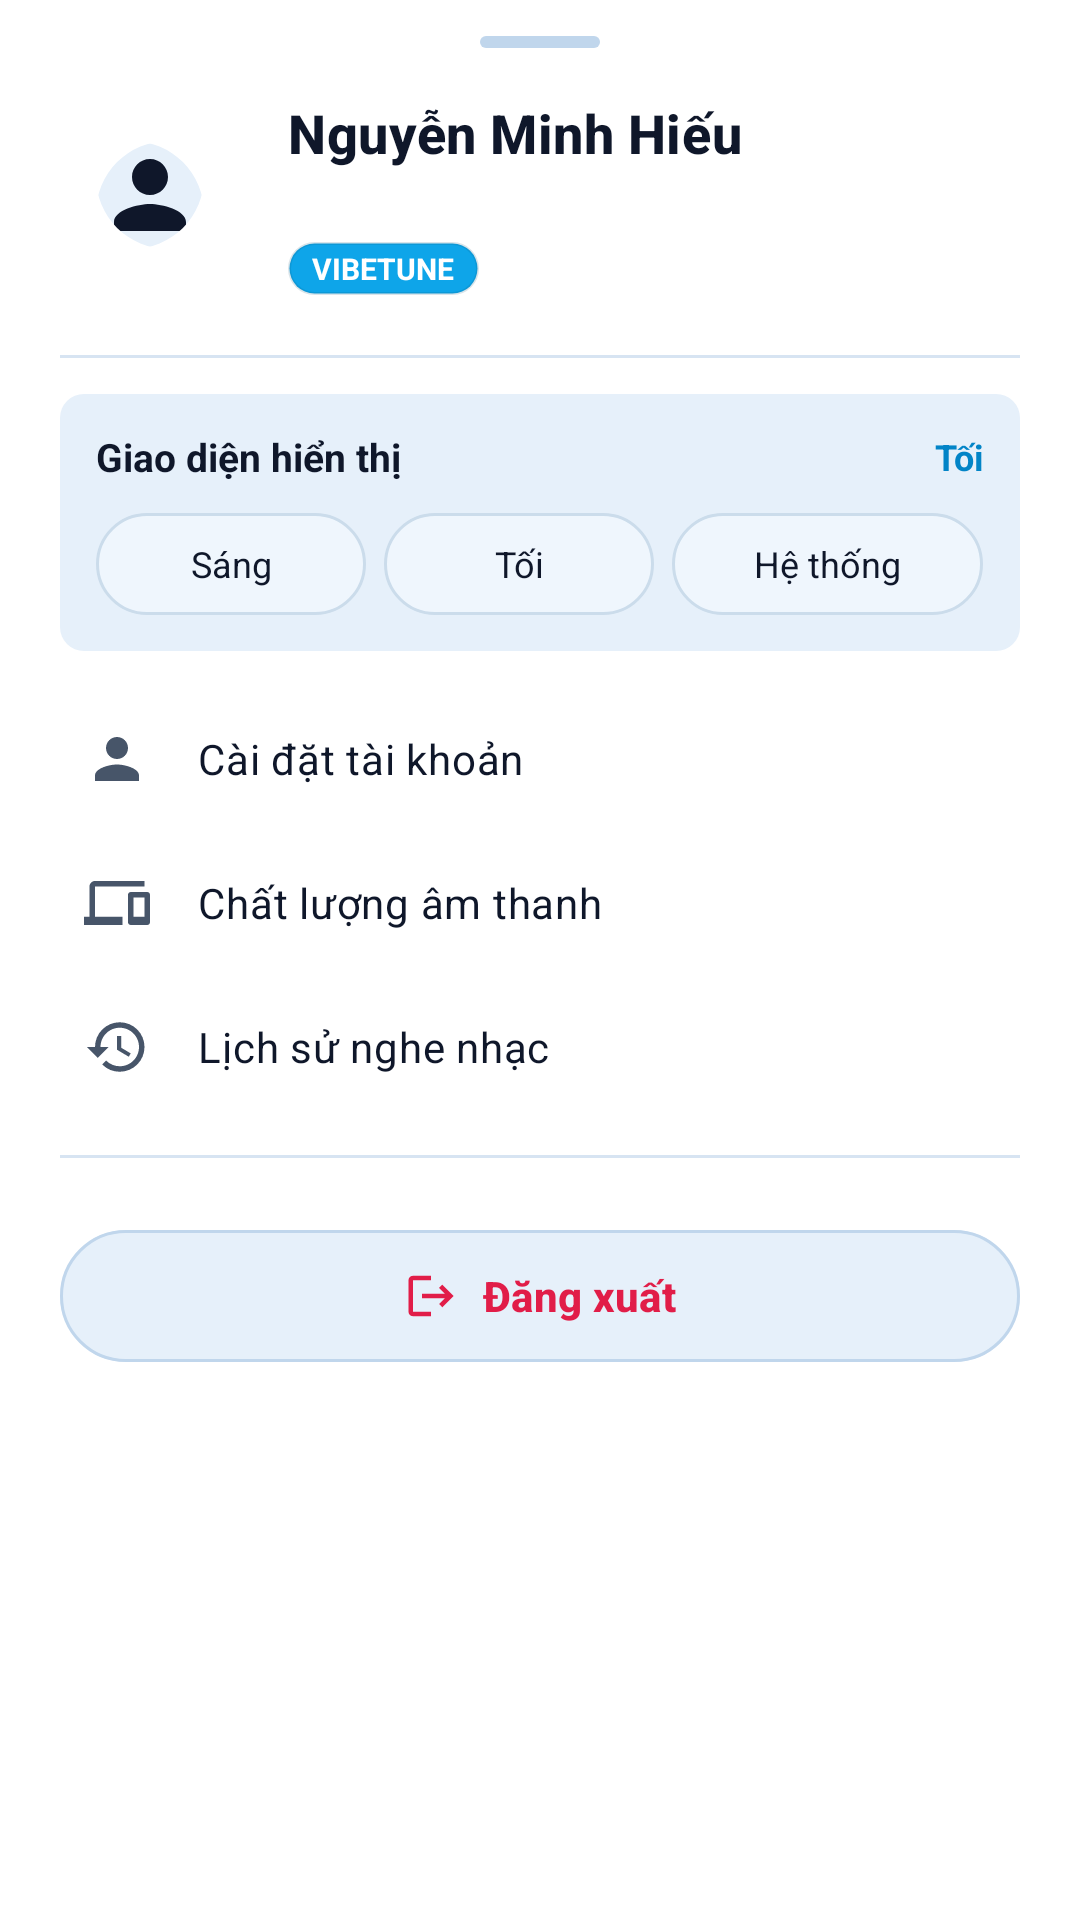

Icons on this 1080px x 1920px Android screen, each with the point to tap as (x=x, y=y):
devices: (x=117, y=903)
history: (x=116, y=1047)
person: (x=150, y=195), (x=117, y=759)
